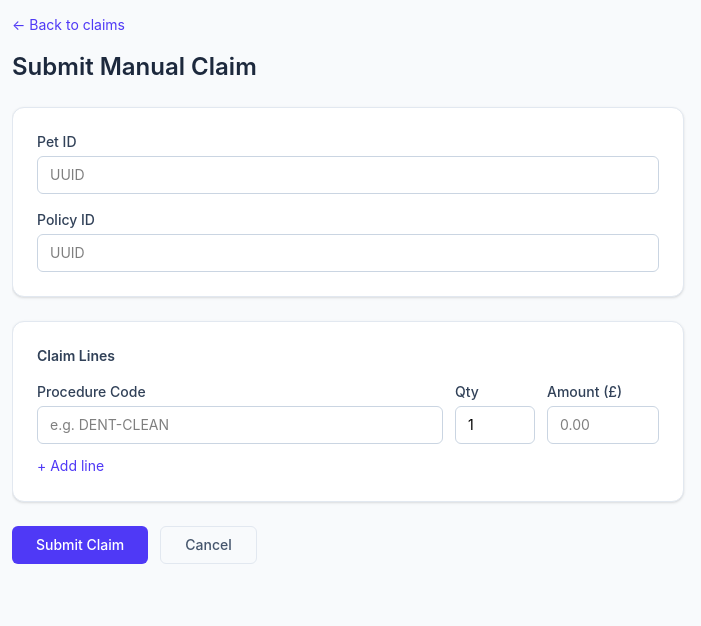
Scenario: NewClaim › shows an error message when submission fails
Type " pet-1 " into the field with placeholder "UUID" below "Pet ID" at (348, 175), box [37,156,659,194]
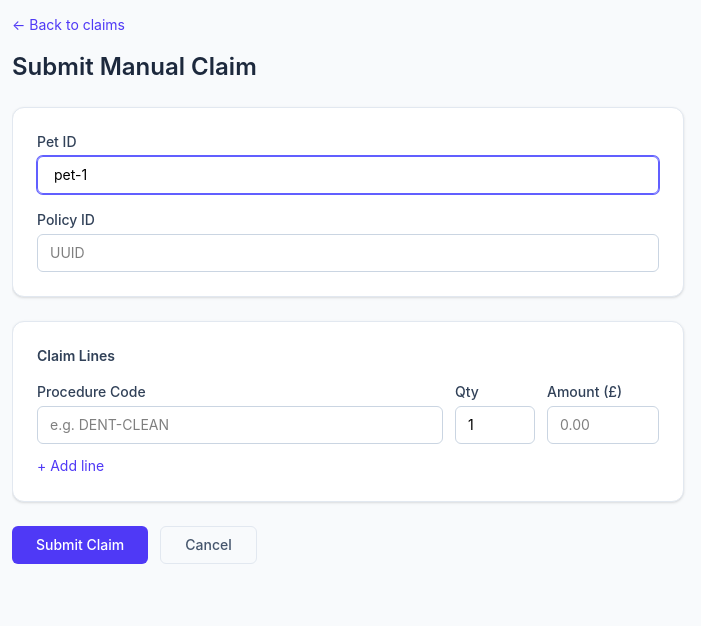
Type " policy-1 " into the field with placeholder "UUID" at (348, 253), box [37,234,659,272]
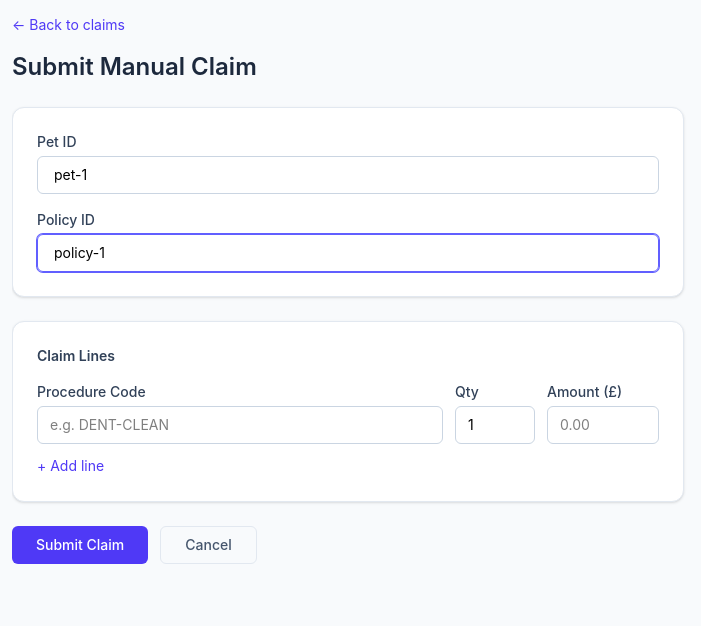
Type "DENT-CLEAN" into the field with placeholder "e.g. DENT-CLEAN" at (240, 425), box [37,406,443,444]
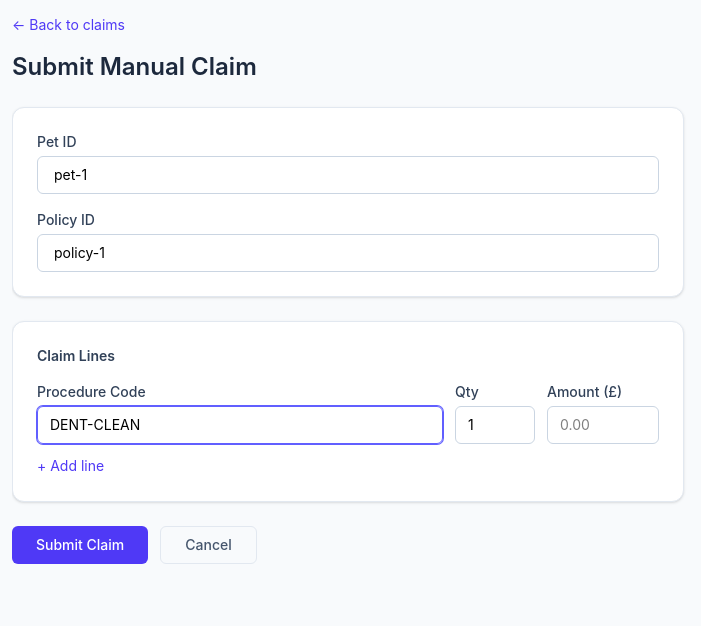
Type "49.99" into the number field with placeholder "0.00" at (603, 425), box [547,406,659,444]
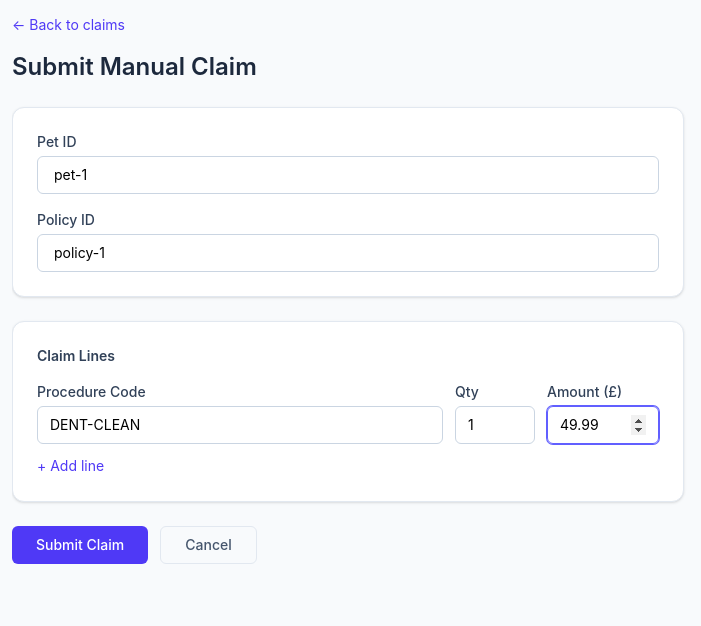
Click the button "Submit Claim" at (80, 545), box [12,526,148,564]
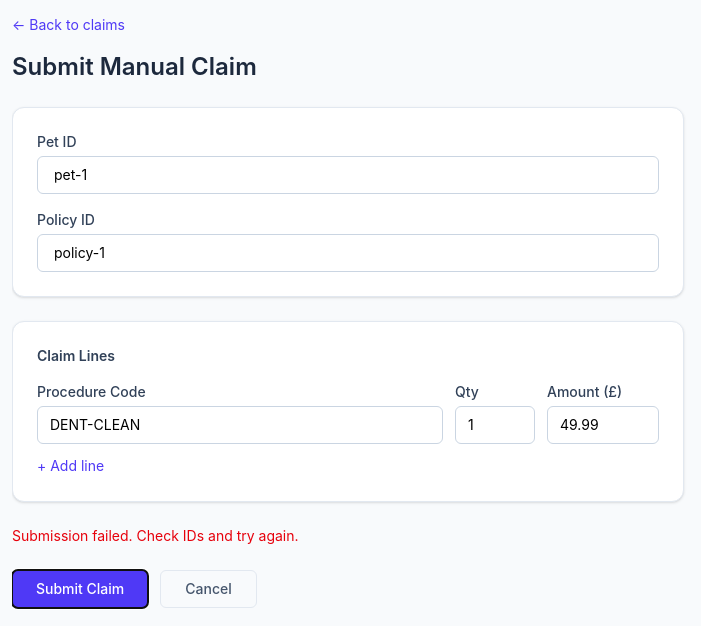
Expected: the text "Submission failed. Check IDs and try again." is shown, [12,527,299,544]
